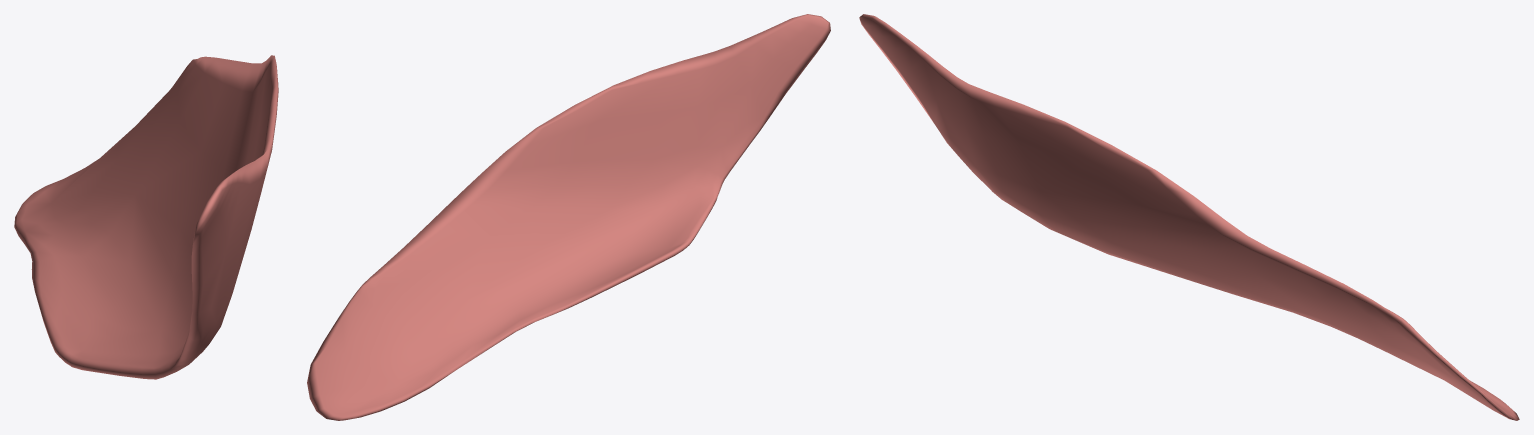
3 renders of one model, left to right at view 1: azimuth 30°, elevation 25°; view 2: azimuth 150°, elevation 25°; view 3: azimuth 270°, elevation 25°, orthographic. The views are drawn at different scales.
Visible parts, largest first — view 1: ZA_4903f1968076797f; view 2: ZA_4903f1968076797f; view 3: ZA_4903f1968076797f.
Part boxes in pixels (x1,y1,x2,y2): ZA_4903f1968076797f: (14, 55, 278, 379); ZA_4903f1968076797f: (307, 14, 830, 420); ZA_4903f1968076797f: (859, 14, 1519, 420).
Bounding box in the file's own units: 0.0225 × 0.0215 × 0.0442.
